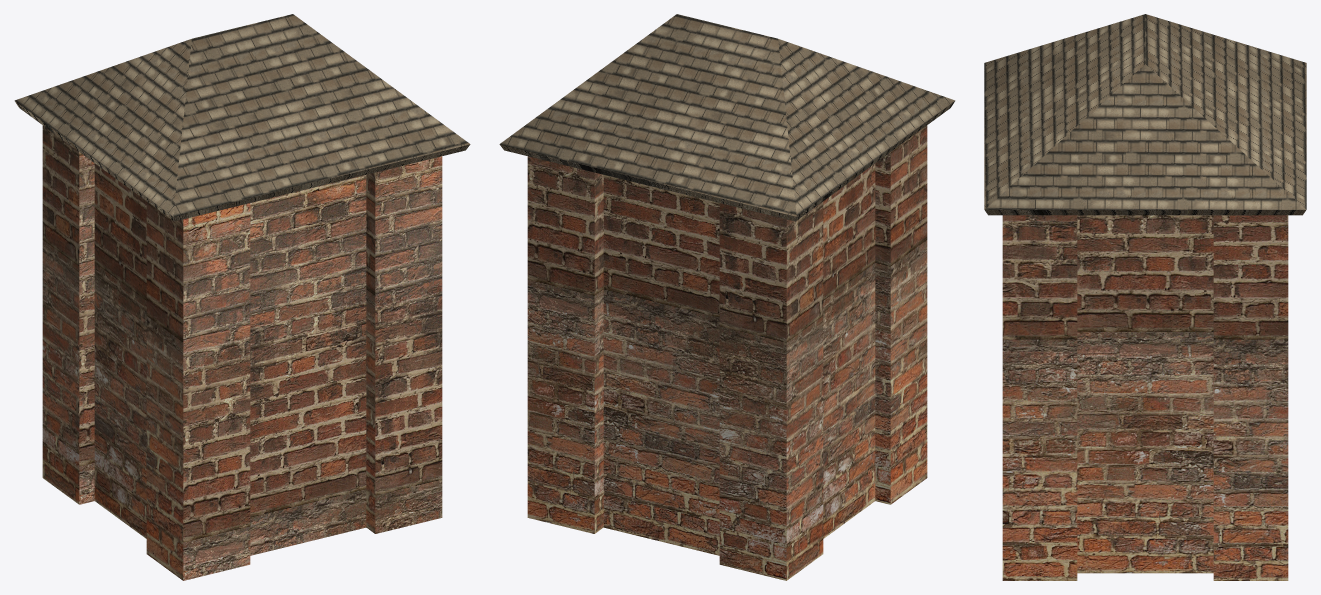
The model's file is brickwallpillar.FBX.
The picture shows the model from 3 angles, left to right: view 1: azimuth 30°, elevation 25°; view 2: azimuth 150°, elevation 25°; view 3: azimuth 270°, elevation 25°; orthographic projection.
Parts seen in each view (by area): view 1: Box003; view 2: Box003; view 3: Box003.
Part boxes in pixels (x1,y1,x2,y2): Box003: [14, 14, 470, 580]; Box003: [499, 14, 955, 580]; Box003: [984, 14, 1306, 580].
Size of the model in its own units: 71.5 by 108 by 66.16.
